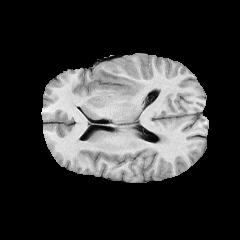glioma: (95, 65, 144, 99)
